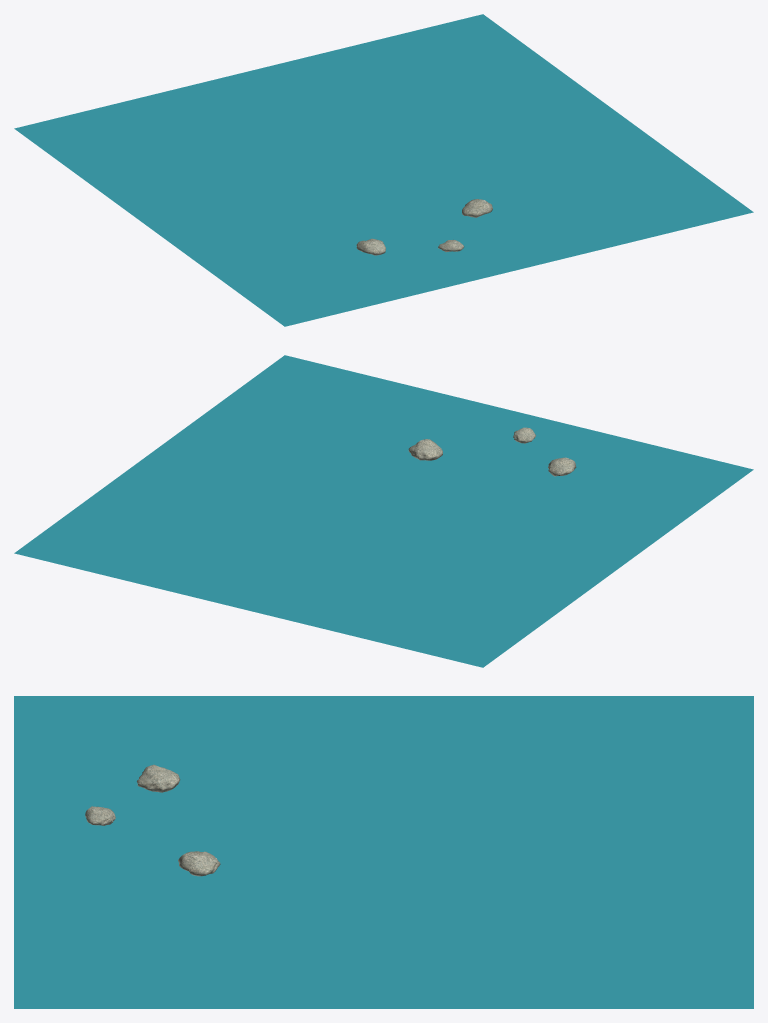
Rendered from coast-2-0.glb.
3 renders of one model, top to bottom at view 1: azimuth 30°, elevation 25°; view 2: azimuth 150°, elevation 25°; view 3: azimuth 270°, elevation 25°, orthographic. The views are drawn at different scales.
Visible parts, largest first — view 1: coast-2-0; view 2: coast-2-0; view 3: coast-2-0.
Boxes of the visible parts, left/top/right/bottom form: coast-2-0: left=14, top=14, right=753, bottom=326; coast-2-0: left=14, top=355, right=753, bottom=667; coast-2-0: left=14, top=696, right=753, bottom=1008.
Bounding box in the file's own units: 128 × 4.26 × 128.
4 materials, 4 textured.
